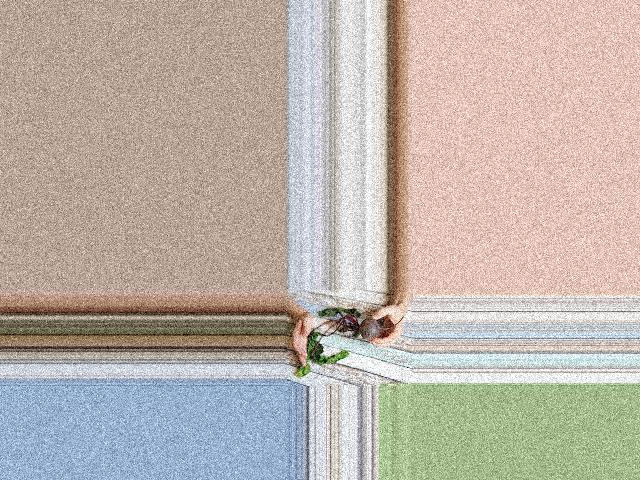beet: (295, 308, 404, 377)
